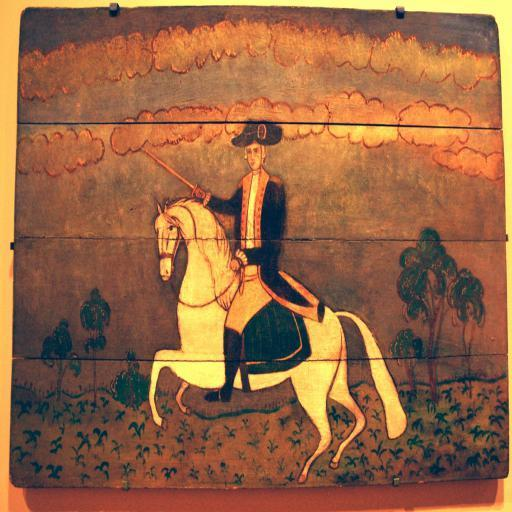horse: (148, 195, 408, 483)
